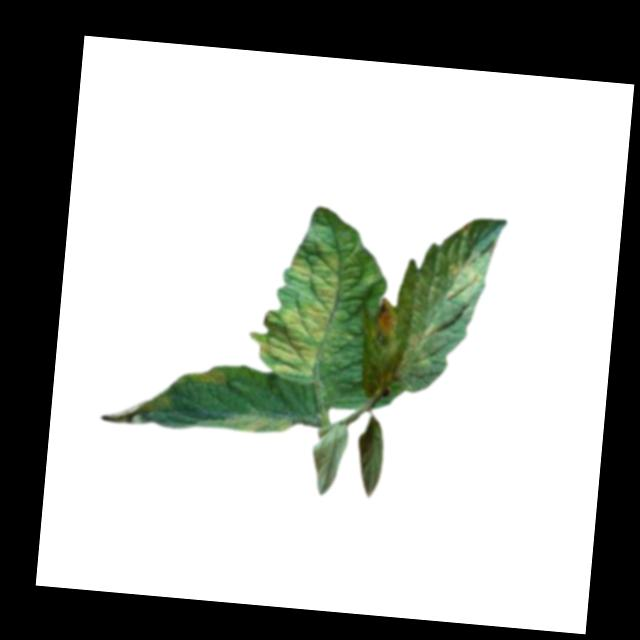Leaf_Mold: (246, 230, 361, 387), (384, 314, 440, 383), (95, 385, 175, 430), (196, 404, 295, 438), (441, 253, 485, 306), (180, 361, 231, 391), (370, 298, 398, 351)
